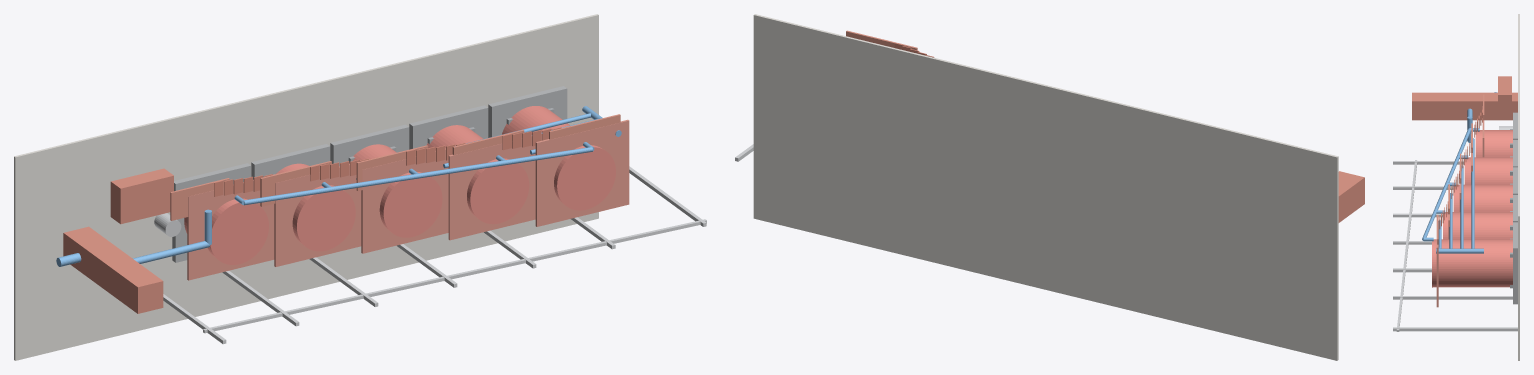
The model's file is adsorption_circuit_concept_v3.glb.
The picture shows the model from 3 angles, left to right: view 1: azimuth 30°, elevation 25°; view 2: azimuth 150°, elevation 25°; view 3: azimuth 270°, elevation 25°; orthographic projection. The views are drawn at different scales.
Parts seen in each view (by area): view 1: ground-slab, ring-walkway-4, left-stack, ring-walkway-3, ring-walkway-2, ring-walkway-1, ring-walkway-0, column-0-1, column-4-1, column-1-1, column-2-1, column-3-1 (+18 smaller); view 2: ground-slab, left-stack; view 3: column-4-0, left-stack, column-3-0, column-2-0, column-1-0, column-0-0, ground-slab, left-hopper, frame-column-33.50, roof-primary, frame-column-26.00, foundation-4 (+19 smaller).
Part boxes in pixels (bbox=[...]): ground-slab: bbox=[14, 14, 598, 360]; ring-walkway-4: bbox=[535, 119, 629, 226]; left-stack: bbox=[63, 226, 163, 313]; ring-walkway-3: bbox=[448, 134, 542, 240]; ring-walkway-2: bbox=[361, 148, 448, 253]; ring-walkway-1: bbox=[274, 164, 361, 266]; ring-walkway-0: bbox=[187, 173, 278, 280]; column-0-1: bbox=[210, 202, 268, 264]; column-4-1: bbox=[556, 146, 615, 210]; column-1-1: bbox=[296, 190, 355, 251]; column-2-1: bbox=[382, 177, 442, 237]; column-3-1: bbox=[469, 163, 529, 224]; ground-slab: bbox=[753, 14, 1338, 360]; left-stack: bbox=[1338, 171, 1364, 222]; column-4-0: bbox=[1433, 239, 1512, 287]; left-stack: bbox=[1412, 92, 1517, 120]; column-3-0: bbox=[1444, 212, 1512, 239]; column-2-0: bbox=[1455, 184, 1512, 211]; column-1-0: bbox=[1466, 157, 1512, 184]; column-0-0: bbox=[1477, 130, 1512, 157]; ground-slab: bbox=[1518, 14, 1519, 360]; left-hopper: bbox=[1498, 76, 1511, 120]; frame-column-33.50: bbox=[1393, 327, 1517, 331]; roof-primary: bbox=[1396, 160, 1417, 331]; frame-column-26.00: bbox=[1393, 296, 1512, 299]; foundation-4: bbox=[1513, 222, 1517, 304].
Bounding box in the file's own units: 49.88 × 16 × 12.7.
